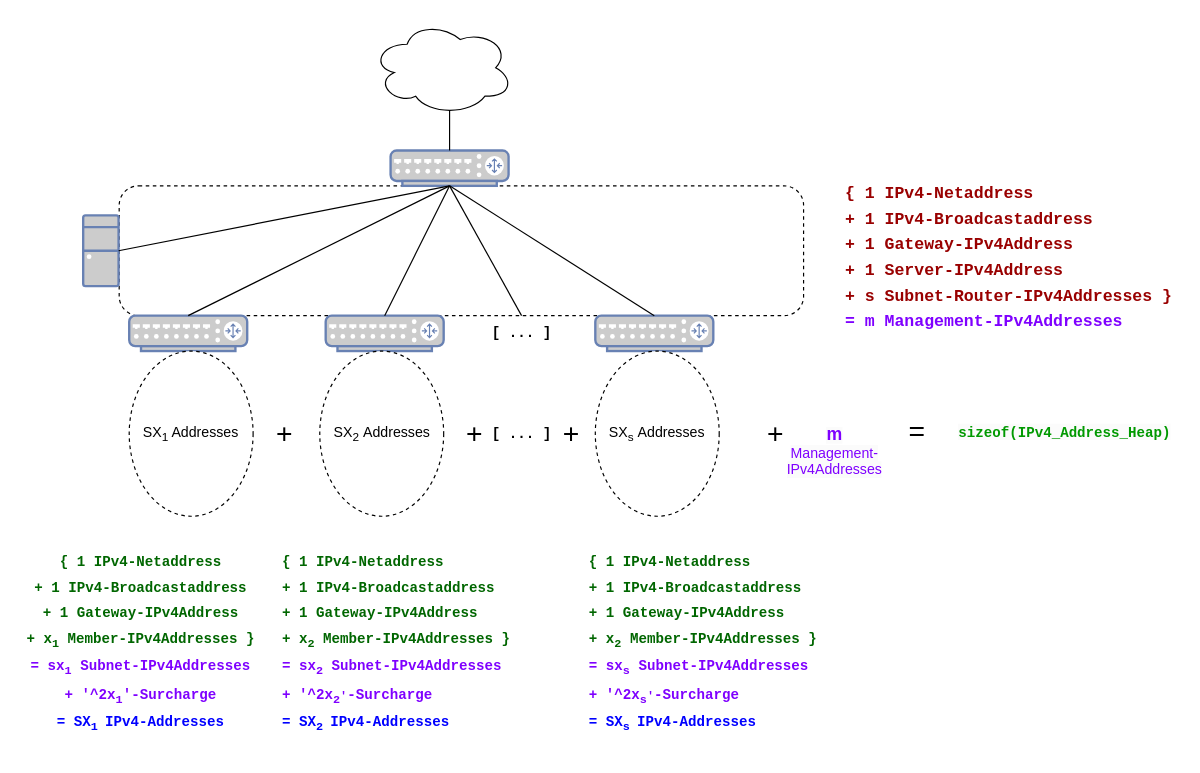
Image size: 1200x773. Some labels were removed from this diagram. The shapes that lost their labels are listed below. From the top down, each one's centre as x and y in pixels, then its label:
At point 442,67: "Internet".
At point 461,250: "Service Network".
